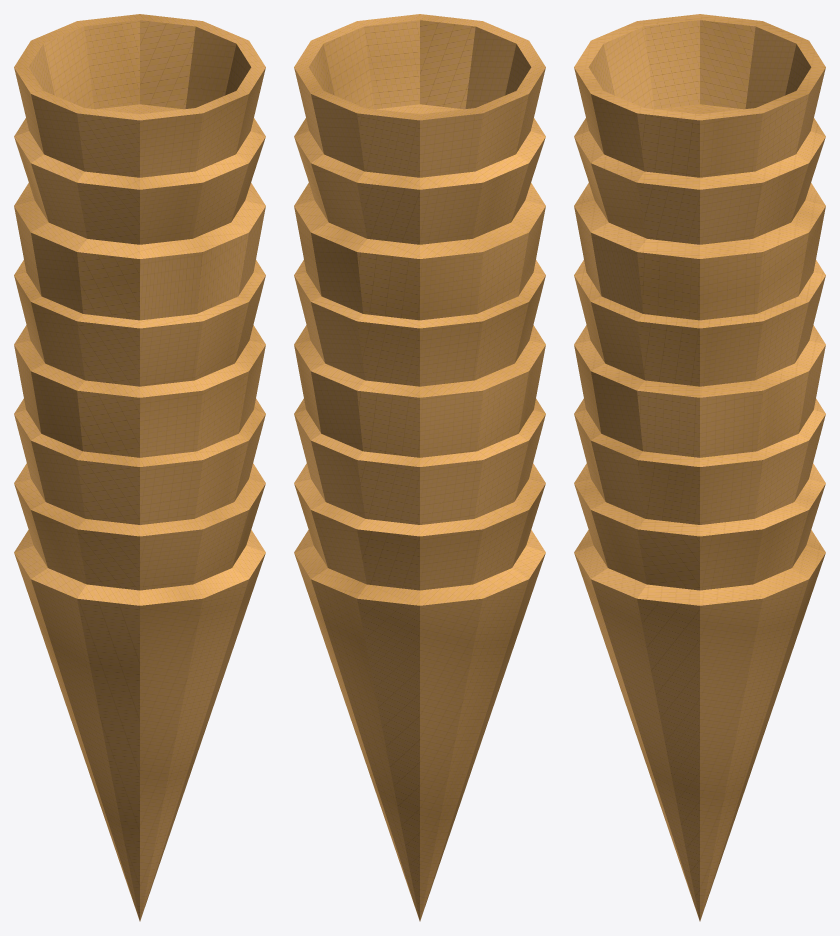
Rendered from Ice_cream_cone_2.fbx.
The picture shows the model from 3 angles, left to right: view 1: azimuth 30°, elevation 25°; view 2: azimuth 150°, elevation 25°; view 3: azimuth 270°, elevation 25°; orthographic projection.
Parts seen in each view (by area): view 1: Ice_cream_cone_2; view 2: Ice_cream_cone_2; view 3: Ice_cream_cone_2.
Part boxes in pixels (x1,y1,x2,y2): Ice_cream_cone_2: [14, 14, 265, 921]; Ice_cream_cone_2: [294, 14, 545, 921]; Ice_cream_cone_2: [574, 14, 825, 921].
Bounding box in the file's own units: 14.29 × 53.47 × 14.29.
